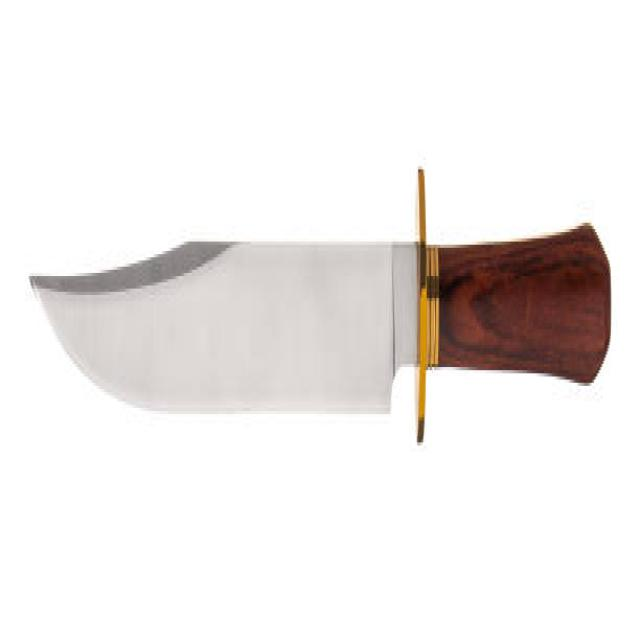knife: (28, 198, 615, 494)
